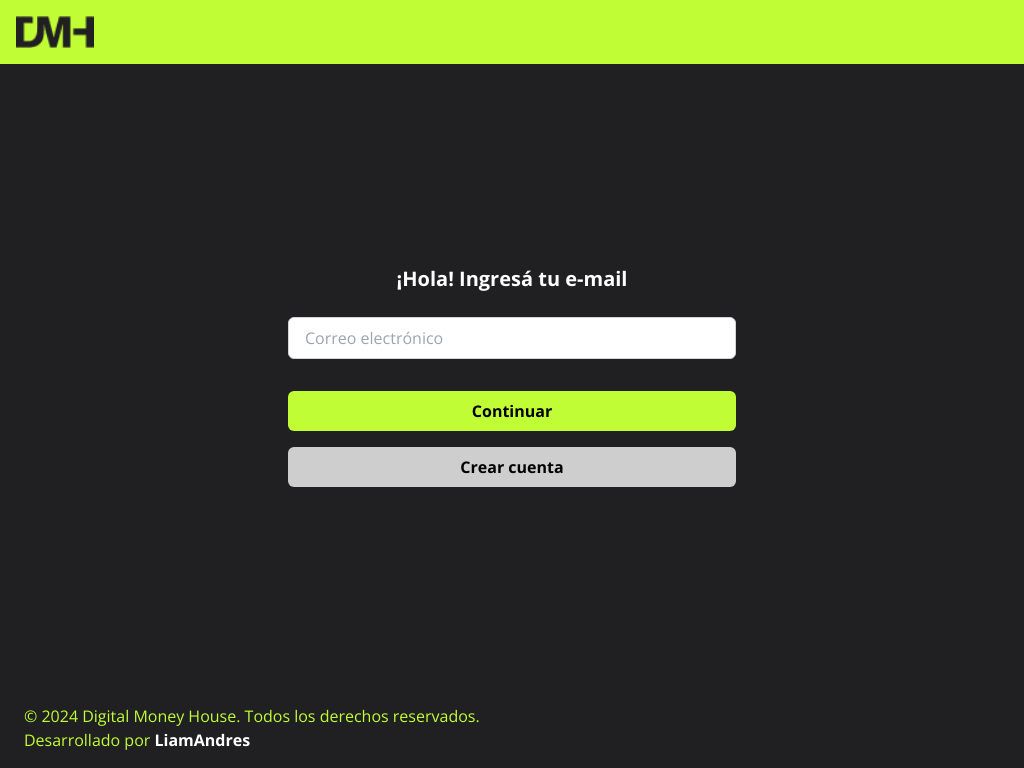
Test: Formulario de Login › Muestra error si el email es inválido
Type "correo-invalido" into the field with placeholder "Correo electrónico" at (512, 338), box [288, 317, 736, 359]
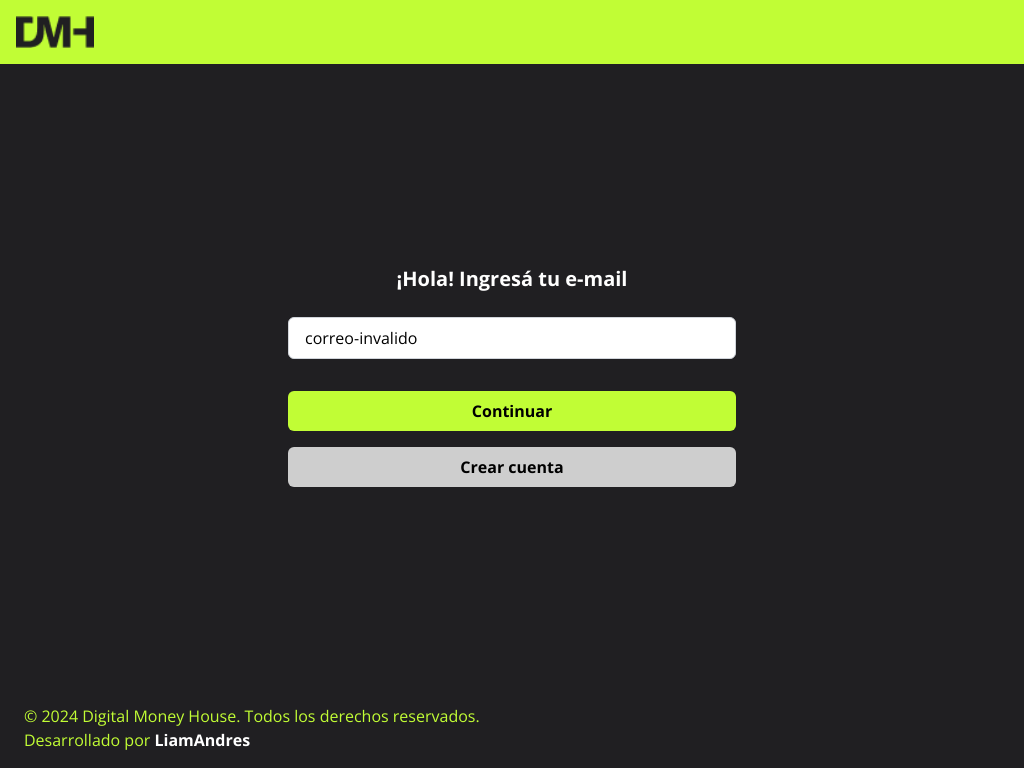
Leave the field with placeholder "Correo electrónico", box [288, 317, 736, 359]
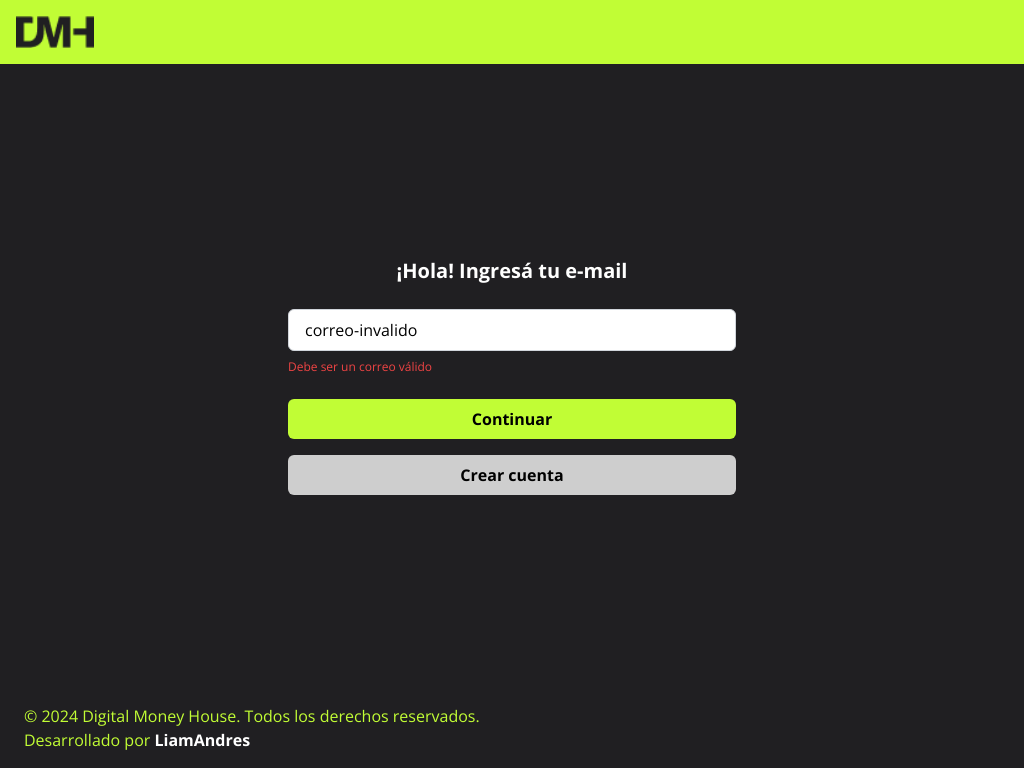
Check: the text "Debe ser un correo válido" is shown, box [288, 358, 432, 375]
